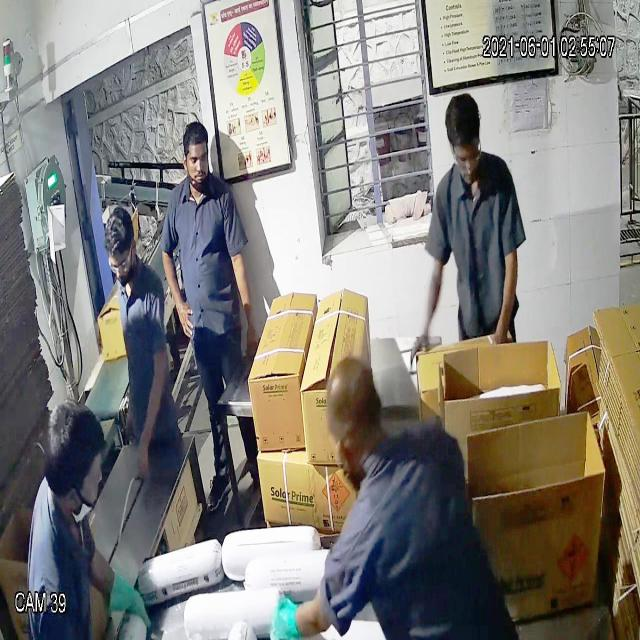glasses: (446, 138, 486, 176), (100, 243, 142, 279)
